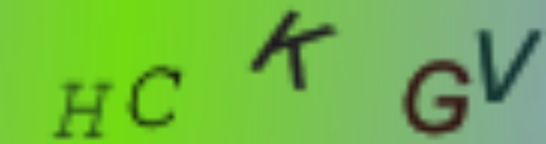C: (124, 64, 185, 131)
G: (399, 57, 474, 137)
H: (50, 78, 113, 143)
K: (244, 10, 338, 93)
V: (475, 27, 544, 107)
